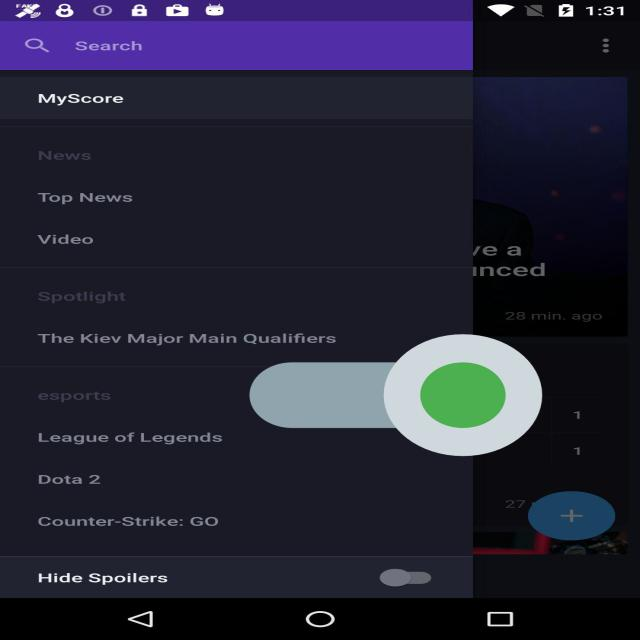social proof: (250, 282, 542, 508)
